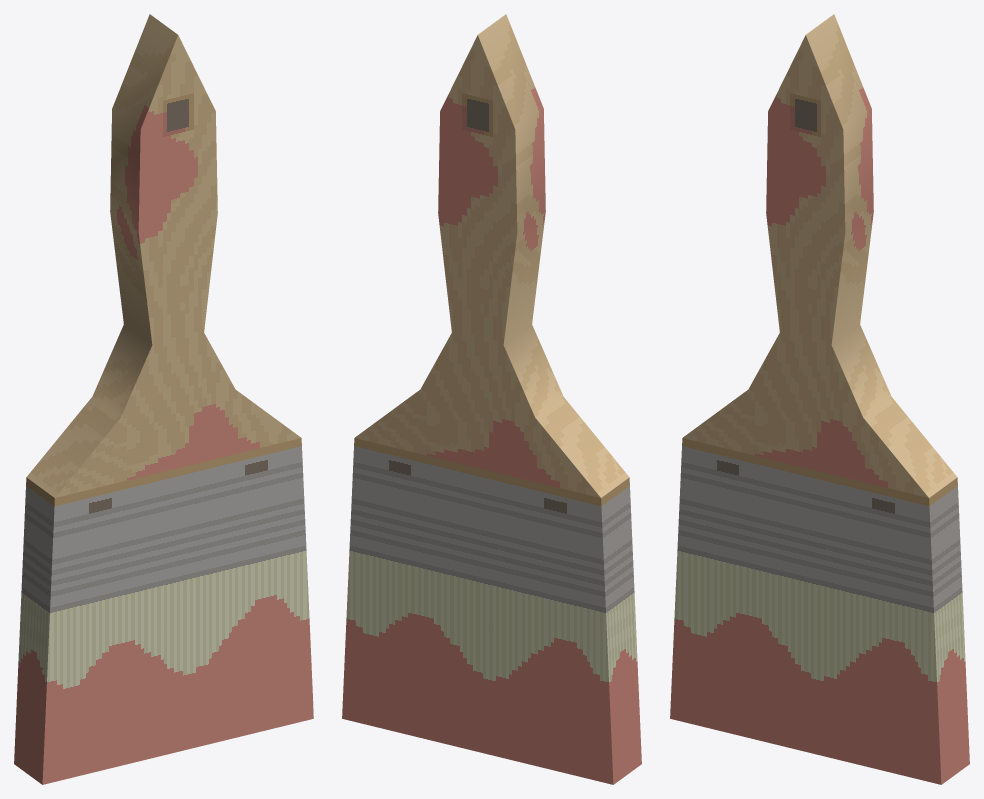
File: MuseumDOrsay.glb
3 views of the same model, side by side, from view 1: azimuth 30°, elevation 25°; view 2: azimuth 150°, elevation 25°; view 3: azimuth 330°, elevation 25° (orthographic).
Parts seen in each view (by area): view 1: part_0; view 2: part_0; view 3: part_0.
Part boxes in pixels (x1=…): part_0: x1=14, y1=14, x2=313, y2=784; part_0: x1=342, y1=14, x2=641, y2=784; part_0: x1=670, y1=14, x2=969, y2=784.
Bounding box in the file's own units: 0.0715 × 0.1805 × 0.013.
1 material, 1 textured.
